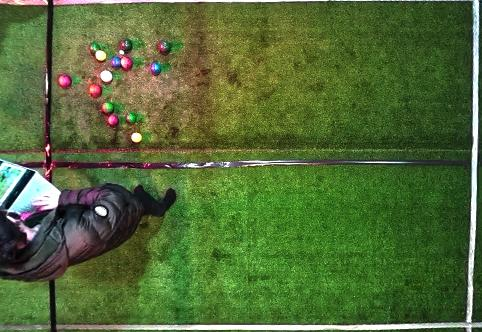blue: (150, 63, 161, 73), (111, 57, 121, 68)
green: (102, 102, 114, 113), (159, 42, 171, 53), (120, 39, 131, 50), (126, 113, 135, 123), (90, 43, 99, 53)
red: (88, 84, 102, 98), (58, 75, 72, 88), (121, 56, 132, 70), (100, 70, 112, 82), (107, 115, 119, 126)
vline: (1, 1, 53, 178), (464, 1, 481, 331), (1, 277, 57, 331)
white: (119, 50, 124, 54)
yellow: (131, 132, 142, 143), (95, 50, 106, 61)
